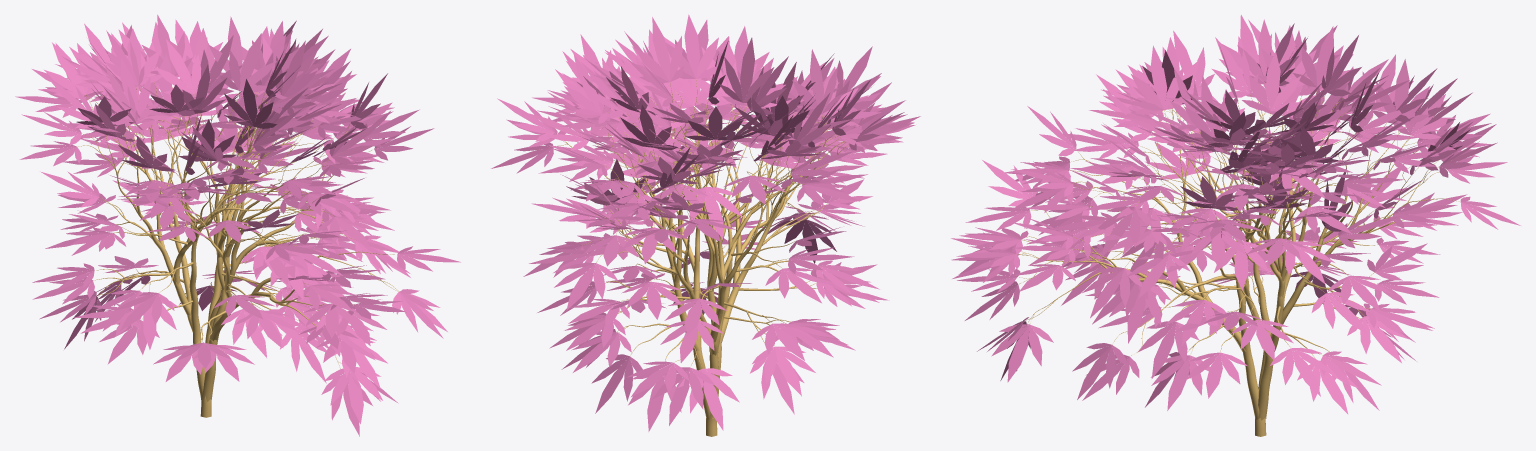
The model's file is Japanese_Maple_2.glb.
The picture shows the model from 3 angles, left to right: view 1: azimuth 30°, elevation 25°; view 2: azimuth 150°, elevation 25°; view 3: azimuth 270°, elevation 25°; orthographic projection. The views are drawn at different scales.
Parts seen in each view (by area): view 1: leaves, tree; view 2: leaves, tree; view 3: leaves, tree.
Part boxes in pixels (x1=…): leaves: x1=15, y1=14, x2=460, y2=436; tree: x1=78, y1=82, x2=399, y2=417; leaves: x1=491, y1=14, x2=920, y2=431; tree: x1=555, y1=79, x2=848, y2=436; leaves: x1=951, y1=15, x2=1520, y2=414; tree: x1=1018, y1=83, x2=1459, y2=436.
Bounding box in the file's own units: 6.38 × 6.3 × 8.54.
